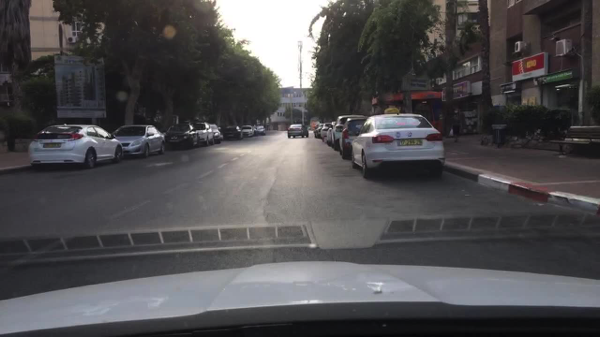car: (350, 107, 443, 178), (30, 123, 124, 168), (112, 125, 166, 159), (339, 116, 373, 161), (332, 115, 364, 151), (166, 123, 198, 148), (191, 123, 214, 146), (287, 124, 310, 139), (222, 125, 242, 140), (211, 123, 223, 144), (321, 123, 332, 143), (242, 125, 254, 138), (255, 125, 265, 135), (317, 123, 323, 138), (314, 123, 317, 139)
